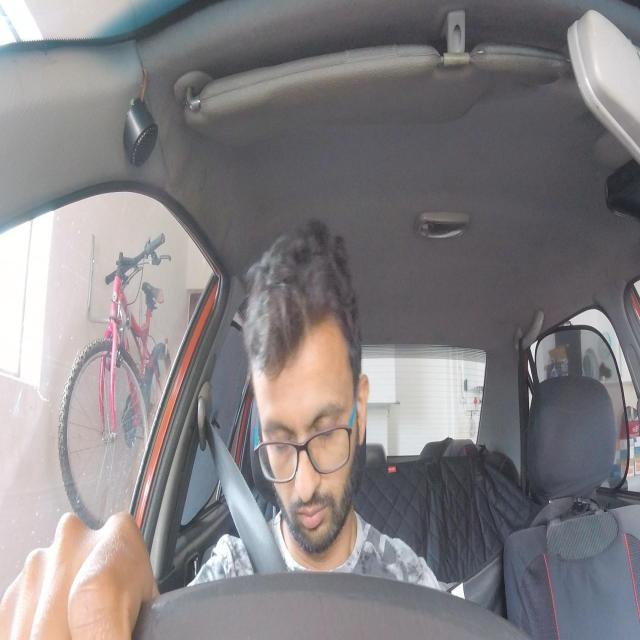close: (309, 400, 344, 448), (264, 411, 295, 459)
